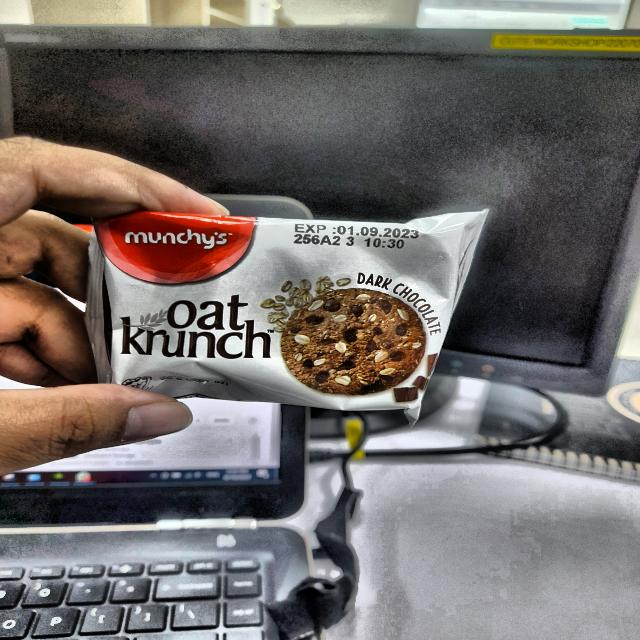Plastic: (92, 198, 474, 420)
